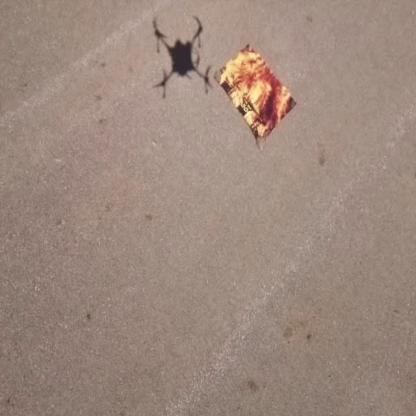fire-poster: (214, 42, 297, 150)
